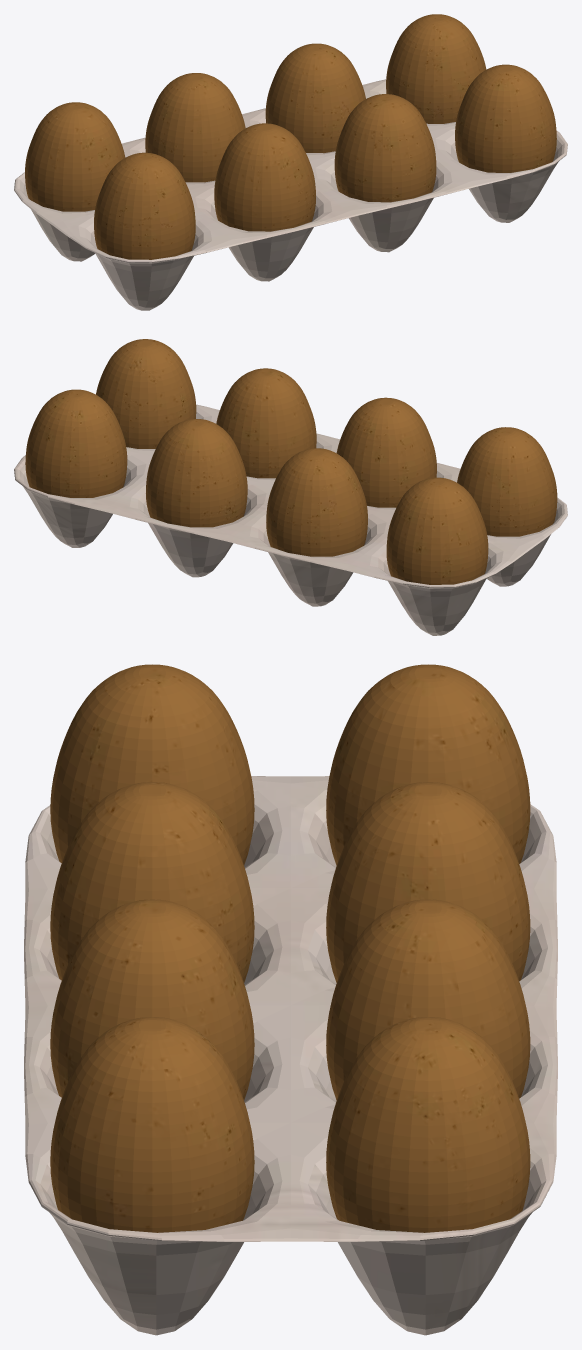
File: tuxum-lotok-mobil.glb
3 renders of one model, top to bottom at view 1: azimuth 30°, elevation 25°; view 2: azimuth 150°, elevation 25°; view 3: azimuth 270°, elevation 25°, orthographic. The views are drawn at different scales.
Parts seen in each view (by area): view 1: Object_4; view 2: Object_4; view 3: Object_4.
Part boxes in pixels (<box>): Object_4: <box>14,14,567,310</box>; Object_4: <box>14,339,567,635</box>; Object_4: <box>24,664,557,1335</box>.
Size of the model in its own units: 11.37 by 3.5 by 5.52.
1 material, 1 textured.
